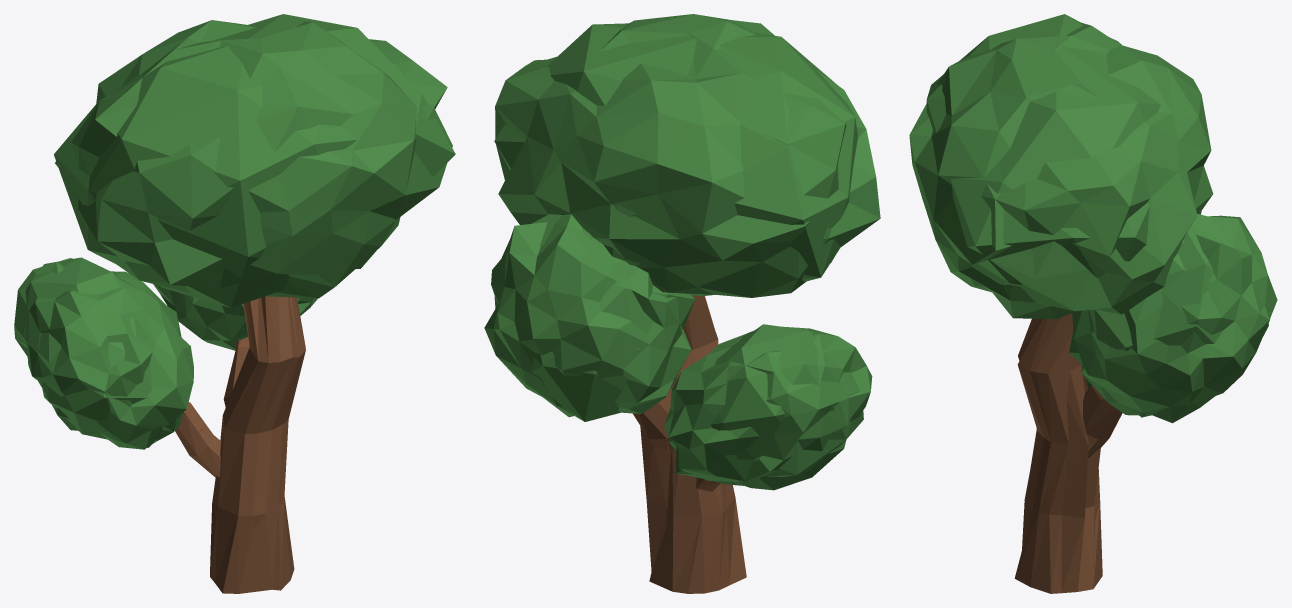
Rendered from Tree.fbx.
3 views of the same model, side by side, from view 1: azimuth 30°, elevation 25°; view 2: azimuth 150°, elevation 25°; view 3: azimuth 270°, elevation 25° (orthographic).
Visible parts, largest first — view 1: Newly_merged_leaves, Newly_merged_leaves_LOD, Newly_merged_branches, Newly_merged_branches_LOD; view 2: Newly_merged_leaves, Newly_merged_leaves_LOD, Newly_merged_branches, Newly_merged_branches_LOD; view 3: Newly_merged_leaves, Newly_merged_leaves_LOD, Newly_merged_branches, Newly_merged_branches_LOD.
Part boxes in pixels (x1,y1,x2,y2): Newly_merged_leaves: (14,20,452,449); Newly_merged_leaves_LOD: (23,14,455,447); Newly_merged_branches: (175,296,305,593); Newly_merged_branches_LOD: (215,302,271,593); Newly_merged_leaves: (484,14,880,490); Newly_merged_leaves_LOD: (494,23,863,478); Newly_merged_branches: (632,295,746,593); Newly_merged_branches_LOD: (649,306,735,591); Newly_merged_leaves: (909,22,1277,423); Newly_merged_leaves_LOD: (926,14,1268,417); Newly_merged_branches: (1014,313,1122,593); Newly_merged_branches_LOD: (1037,316,1102,588).
Size of the model in its own units: 761 by 1071 by 672.
